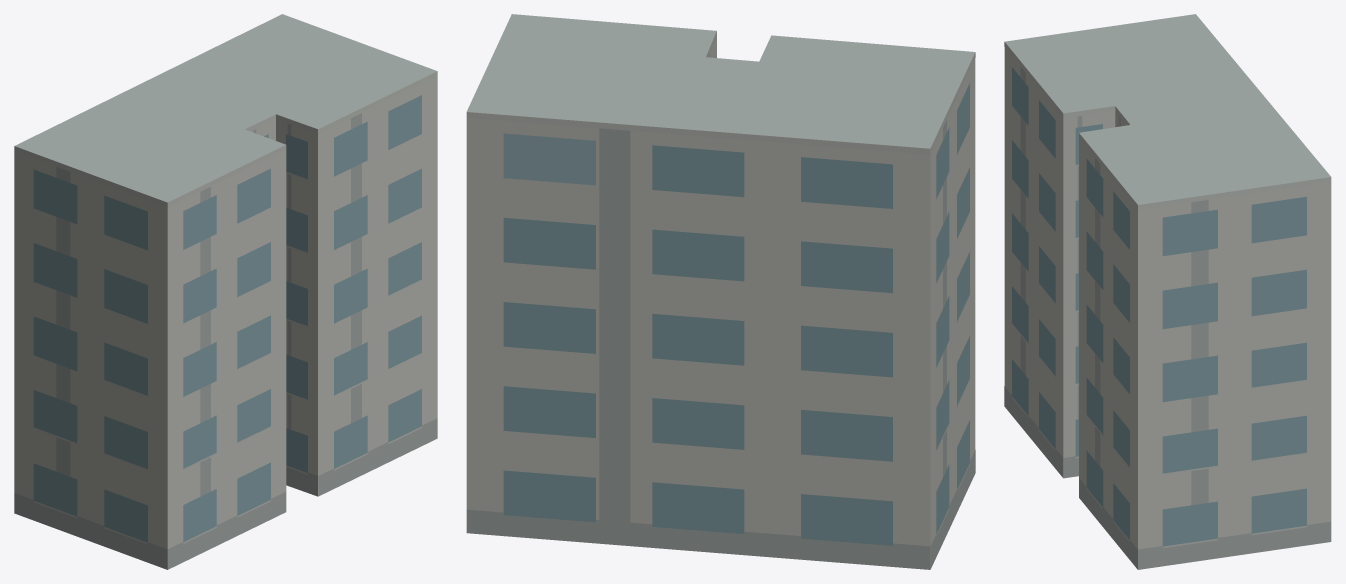
The model's file is survey-upis-32788386.glb.
The picture shows the model from 3 angles, left to right: view 1: azimuth 30°, elevation 25°; view 2: azimuth 150°, elevation 25°; view 3: azimuth 270°, elevation 25°; orthographic projection. The views are drawn at different scales.
Parts seen in each view (by area): view 1: survey-upis-32788386.tmp; view 2: survey-upis-32788386.tmp; view 3: survey-upis-32788386.tmp.
Boxes of the visible parts, x1,y1,x2,y2 form: survey-upis-32788386.tmp: (14,14,437,569); survey-upis-32788386.tmp: (466,14,975,569); survey-upis-32788386.tmp: (1004,14,1331,569).
Size of the model in its own units: 19.83 by 17.65 by 14.34.
